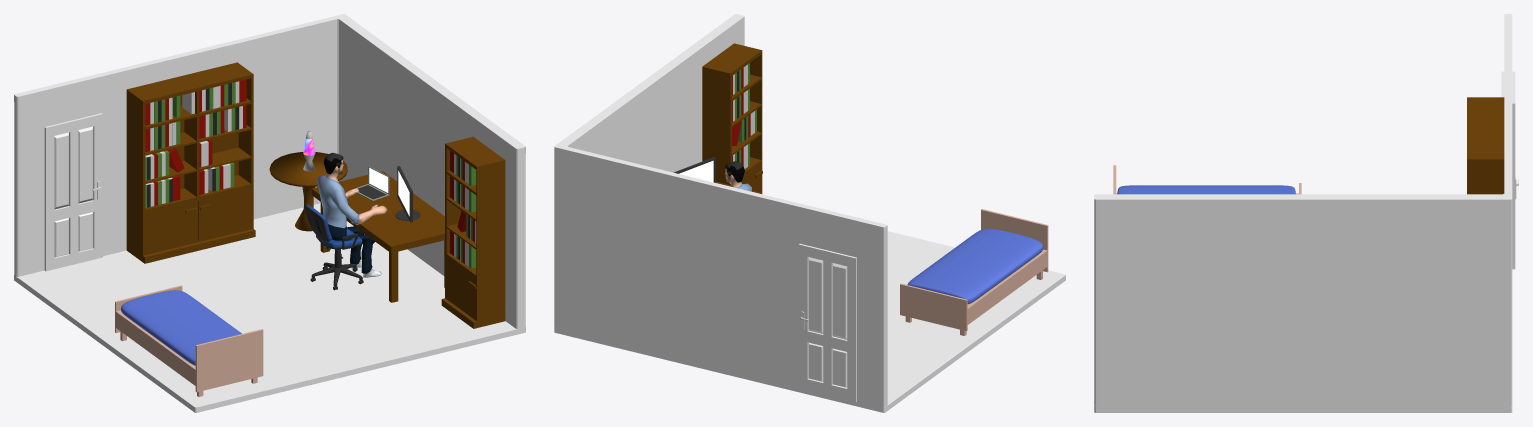
The model's file is RoomModel.glb.
3 views of the same model, side by side, from view 1: azimuth 30°, elevation 25°; view 2: azimuth 150°, elevation 25°; view 3: azimuth 270°, elevation 25° (orthographic). The views are drawn at different scales.
Parts seen in each view (by area): view 1: HouseWalls, Bookshelf, Bookshelf.001, Door, Bed, Table, Mattress, lpMaleG, SmallTable, Office_chair, Books.005, Books.001 (+10 smaller); view 2: HouseWalls, Door, Bookshelf.001, Mattress, Bed, Monitor, Books.008, lpMaleG; view 3: HouseWalls, Bookshelf, Mattress, Door.
Part boxes in pixels (x1,y1,x2,y2): HouseWalls: [14, 14, 525, 412]; Bookshelf: [126, 62, 255, 263]; Bookshelf.001: [441, 136, 505, 328]; Door: [44, 113, 102, 271]; Bed: [115, 285, 263, 396]; Table: [311, 171, 444, 302]; Mattress: [121, 290, 241, 365]; lpMaleG: [316, 152, 387, 277]; SmallTable: [269, 152, 347, 231]; Office_chair: [304, 204, 363, 290]; Books.005: [199, 140, 234, 194]; Books.001: [199, 105, 246, 138]; HouseWalls: [554, 14, 1065, 412]; Door: [798, 243, 856, 402]; Bookshelf.001: [702, 43, 762, 192]; Mattress: [907, 228, 1043, 304]; Bed: [900, 209, 1048, 335]; Monitor: [674, 157, 715, 182]; Books.008: [732, 109, 756, 145]; lpMaleG: [725, 161, 751, 191]; HouseWalls: [1094, 14, 1512, 412]; Bookshelf: [1467, 97, 1504, 194]; Mattress: [1117, 185, 1295, 194]; Door: [1501, 71, 1518, 269].
Bounding box in the file's own units: 9.62 × 5.15 × 9.3.
20 materials, 1 textured.
